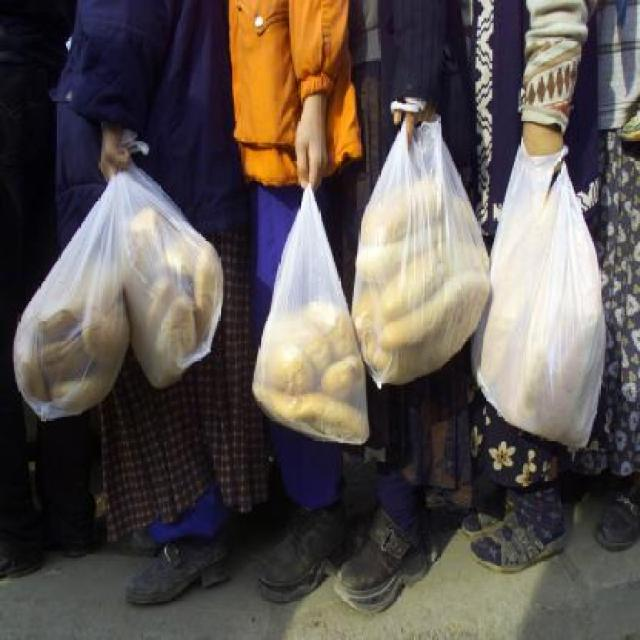plastic bag: (474, 150, 622, 518), (358, 97, 490, 459), (112, 154, 240, 422), (245, 186, 372, 447), (11, 148, 123, 437)
